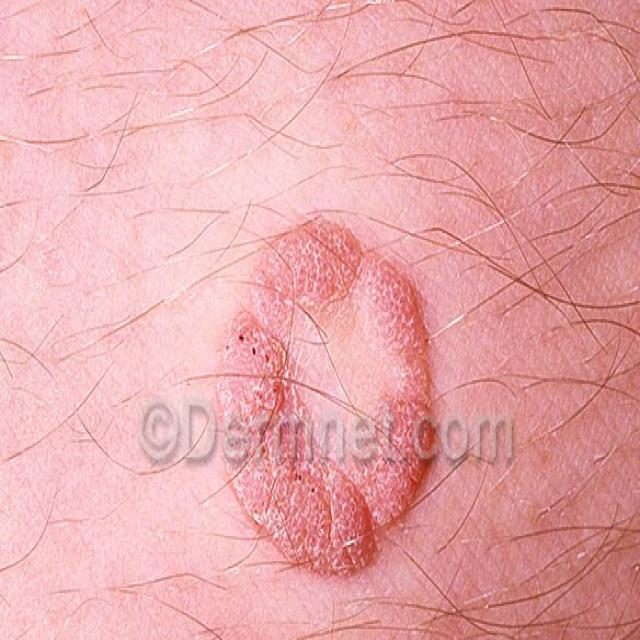Warts: (210, 182, 446, 579)
